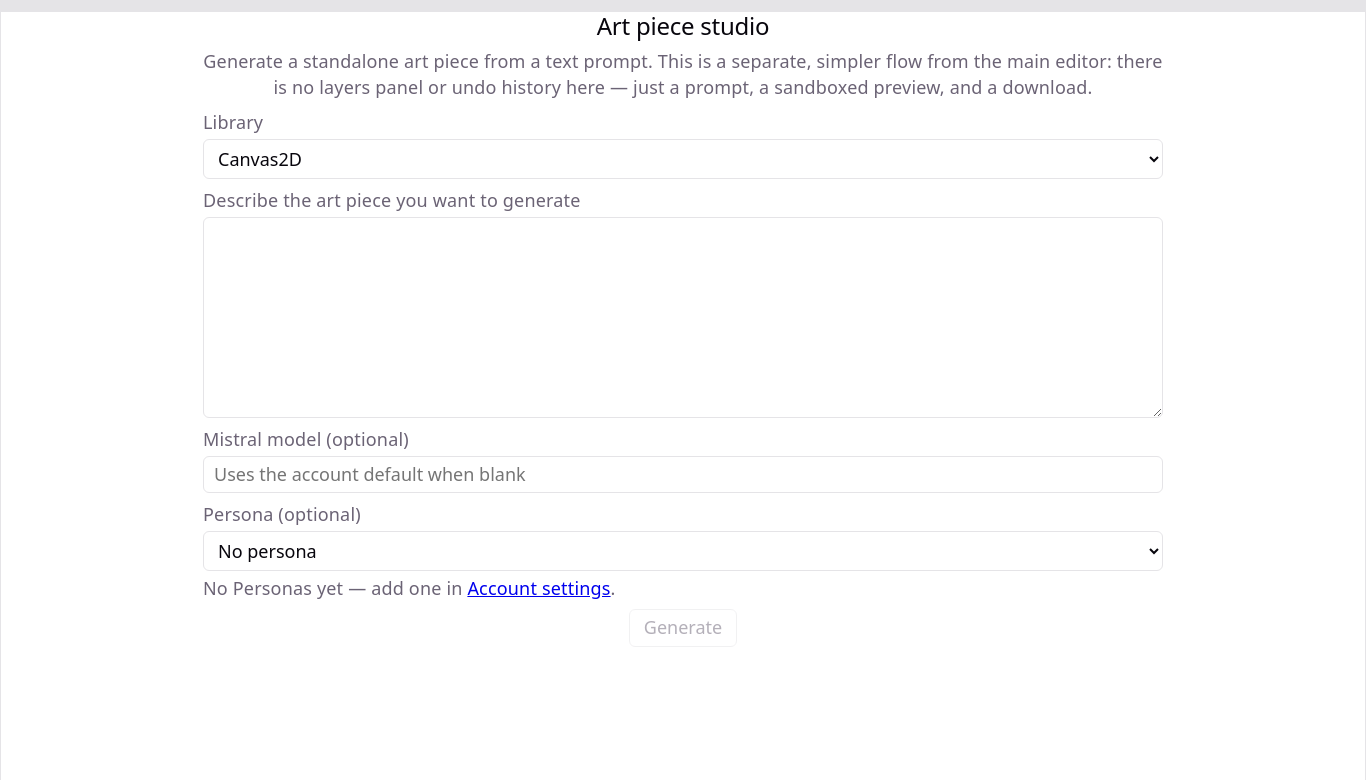
Test: ArtPieceStudio (issue #199) › shows an actionable error when the account has no personal Mistral key
Type "a circle" into the text box labelled "Describe the art piece you want to generate".
click(683, 317); type("a circle")  # box [203,217,1163,418]
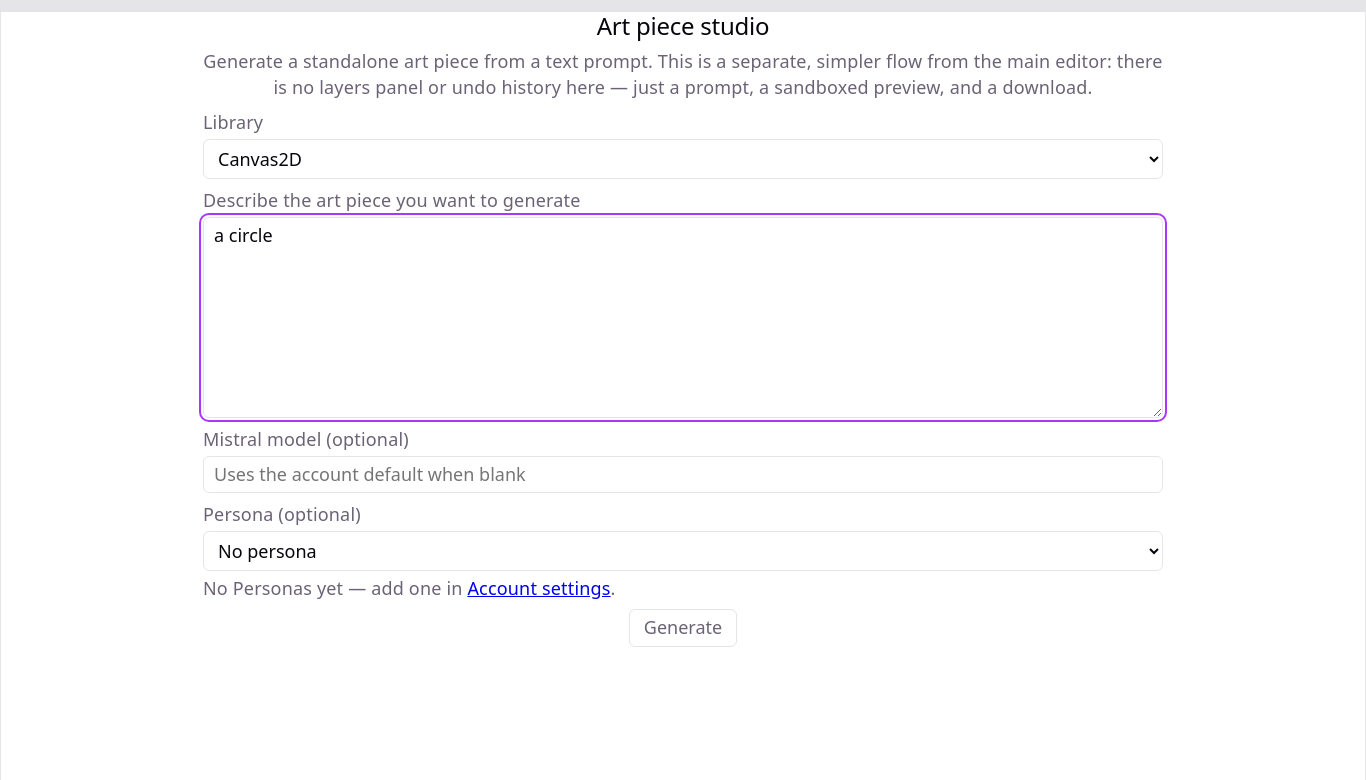
Click the button "Generate".
click(683, 628)  # box [629,610,737,647]
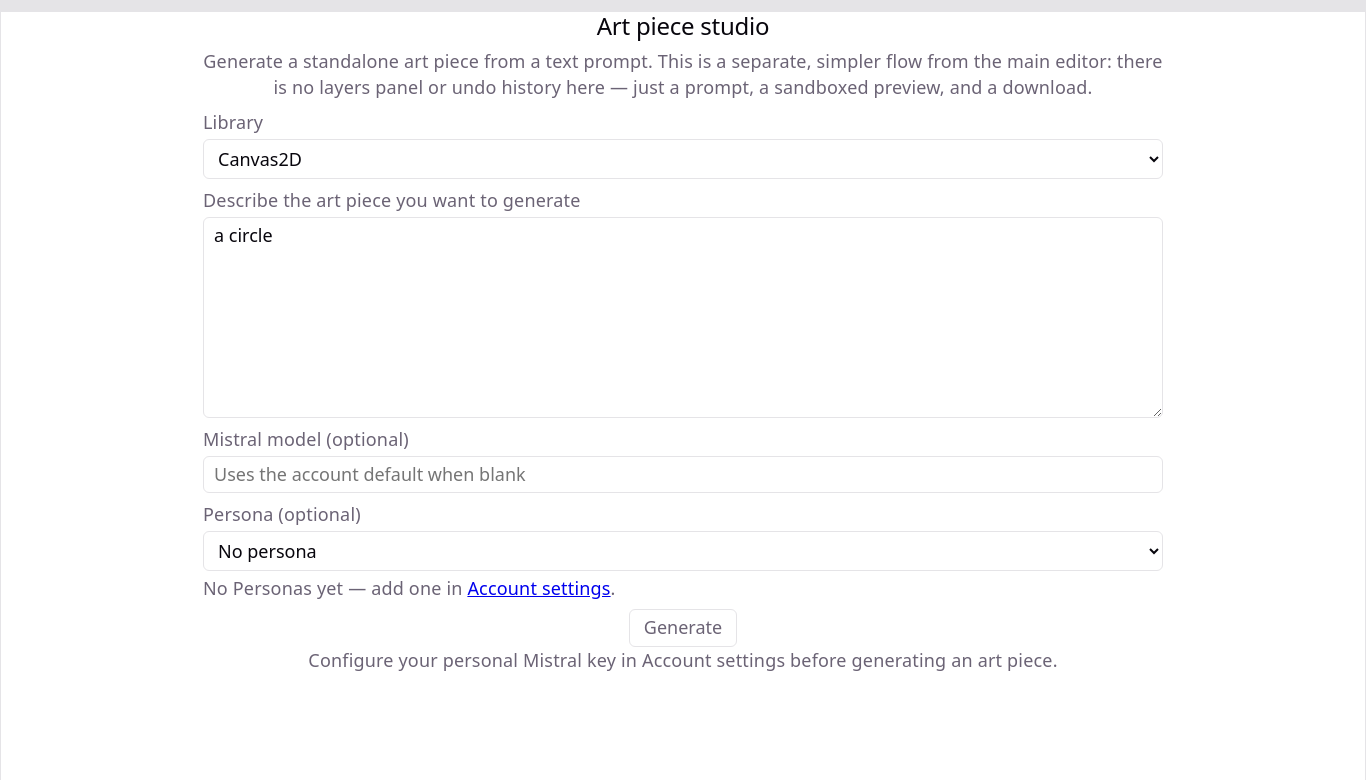
Expected: the message with test id "art-piece-error" shows "Account settings", [308,648,1058,672]
